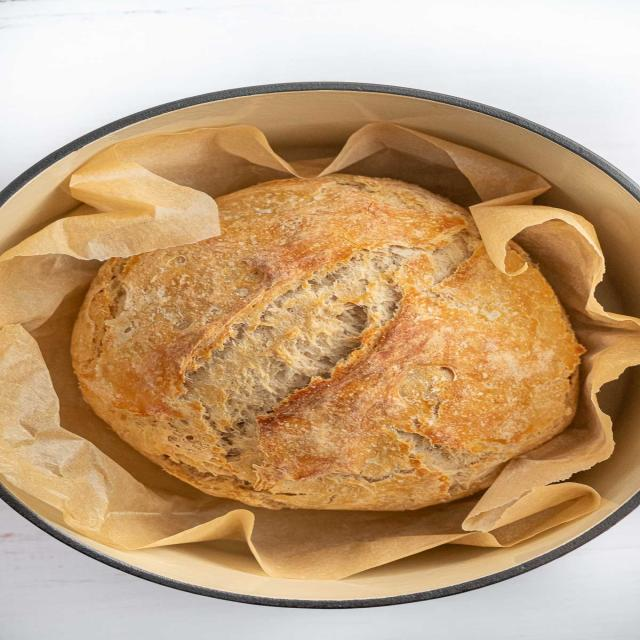Maltese-Bread: (71, 173, 582, 510)
